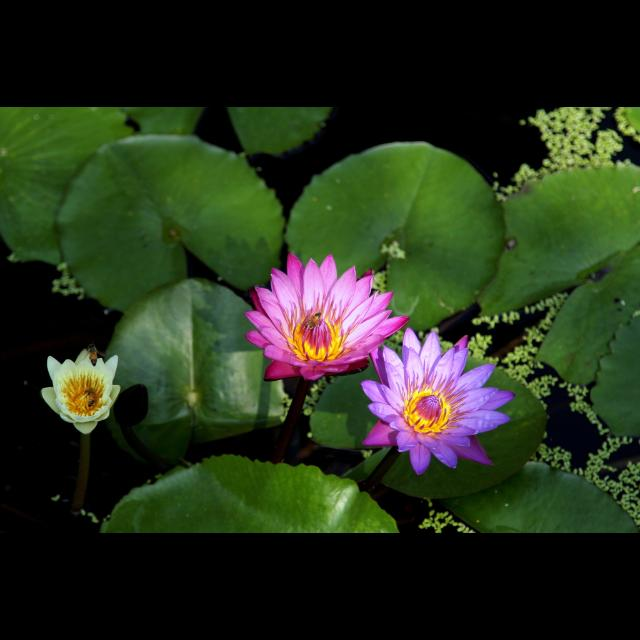Flower: (362, 328, 516, 480), (247, 252, 411, 392), (38, 350, 124, 434)
